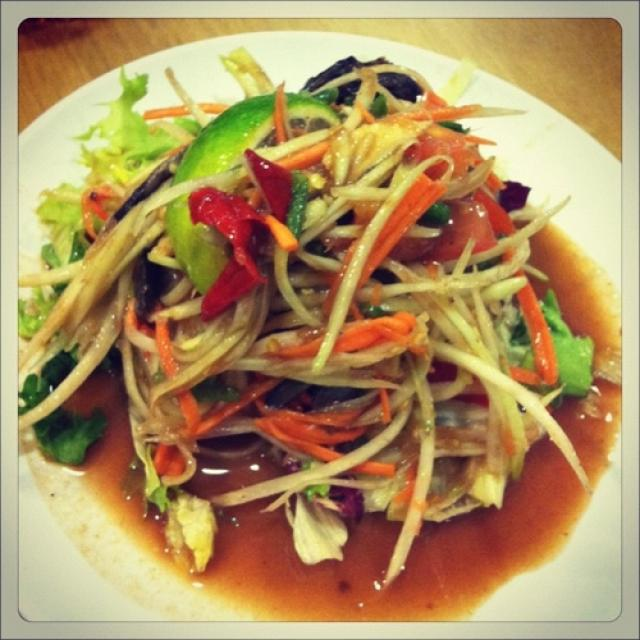蔬菜料理: (40, 42, 612, 611)
